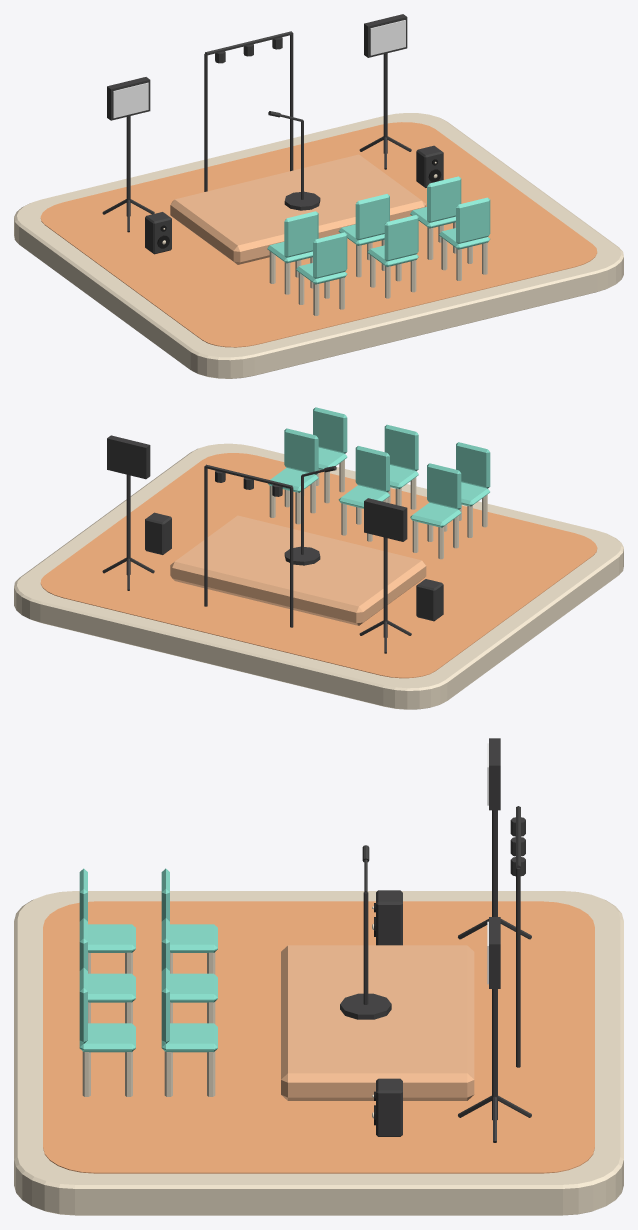
Rendered from room.fbx.
3 renders of one model, top to bottom at view 1: azimuth 30°, elevation 25°; view 2: azimuth 150°, elevation 25°; view 3: azimuth 270°, elevation 25°, orthographic. The views are drawn at different scales.
Visible parts, largest first — view 1: COM-02 Floor Surface, COM-01 Rounded Base Direct, Low stage, Backrest.004, Backrest.003, Backrest.005, Backrest.001, Backrest, Backrest.002, Diffuser.001, Diffuser, Enclosure (+6 smaller); view 2: COM-02 Floor Surface, COM-01 Rounded Base Direct, Low stage, Light panel, Light panel.001, Backrest, Backrest.001, Backrest.002, Backrest.003, Backrest.005, Backrest.004, Enclosure (+12 smaller); view 3: COM-02 Floor Surface, COM-01 Rounded Base Direct, Low stage, Enclosure.001, Enclosure, Seat.005, Seat.002, Seat.001, Seat.004, Seat, Seat.003, Base (+7 smaller).
Part boxes in pixels (bbox=[...]): COM-02 Floor Surface: bbox=[40, 122, 597, 347]; COM-01 Rounded Base Direct: bbox=[14, 113, 623, 378]; Low stage: bbox=[170, 154, 426, 264]; Backrest.004: bbox=[384, 215, 418, 261]; Backrest.003: bbox=[313, 232, 347, 278]; Backrest.005: bbox=[456, 197, 490, 243]; Backrest.001: bbox=[355, 194, 389, 240]; Backrest: bbox=[284, 211, 318, 257]; Backrest.002: bbox=[427, 176, 461, 222]; Diffuser.001: bbox=[370, 20, 405, 55]; Diffuser: bbox=[113, 82, 148, 118]; Enclosure: bbox=[145, 212, 171, 254]; COM-02 Floor Surface: bbox=[40, 453, 597, 678]; COM-01 Rounded Base Direct: bbox=[14, 443, 623, 709]; Low stage: bbox=[170, 515, 426, 625]; Light panel: bbox=[364, 498, 407, 541]; Light panel.001: bbox=[107, 435, 150, 479]; Backrest: bbox=[427, 463, 461, 509]; Backrest.001: bbox=[355, 446, 389, 492]; Backrest.002: bbox=[284, 428, 318, 474]; Backrest.003: bbox=[456, 442, 490, 488]; Backrest.005: bbox=[313, 407, 347, 453]; Backrest.004: bbox=[384, 424, 418, 471]; Enclosure: bbox=[416, 579, 443, 621]; COM-02 Floor Surface: bbox=[43, 901, 594, 1173]; COM-01 Rounded Base Direct: bbox=[14, 891, 623, 1215]; Low stage: bbox=[281, 945, 474, 1100]; Enclosure.001: bbox=[376, 1078, 402, 1136]; Enclosure: bbox=[376, 890, 402, 945]; Seat.005: bbox=[79, 1023, 135, 1052]; Seat.002: bbox=[161, 1023, 217, 1052]; Seat.001: bbox=[170, 973, 217, 1002]; Seat.004: bbox=[88, 973, 135, 1002]; Seat: bbox=[170, 924, 217, 952]; Seat.003: bbox=[88, 924, 135, 952]; Base: bbox=[340, 993, 391, 1019].
Size of the model in its own units: 600 by 219 by 520.
